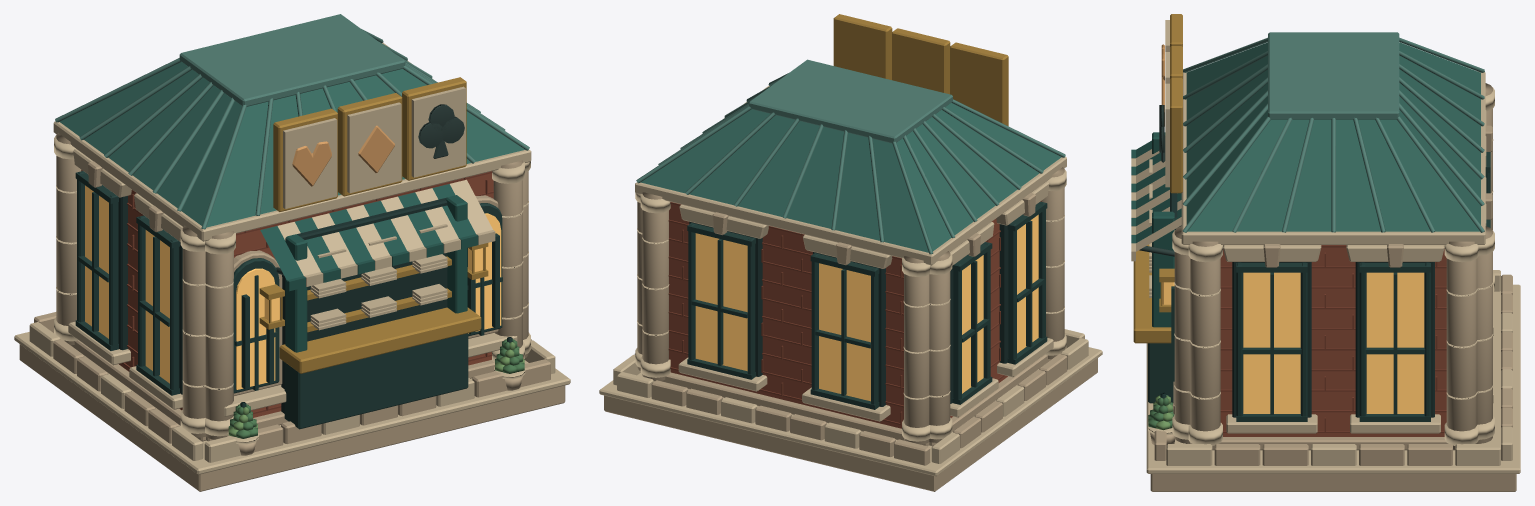
3 renders of one model, left to right at view 1: azimuth 30°, elevation 25°; view 2: azimuth 150°, elevation 25°; view 3: azimuth 270°, elevation 25°, orthographic. The views are drawn at different scales.
Visible parts, largest first — view 1: expansion_card_pavilion_geometry; view 2: expansion_card_pavilion_geometry; view 3: expansion_card_pavilion_geometry.
Boxes of the visible parts, x1,y1,x2,y2 form: expansion_card_pavilion_geometry: (14,14,570,491); expansion_card_pavilion_geometry: (599,14,1102,491); expansion_card_pavilion_geometry: (1131,14,1520,491).
Bounding box in the file's own units: 1.04 × 0.897 × 0.9261.
